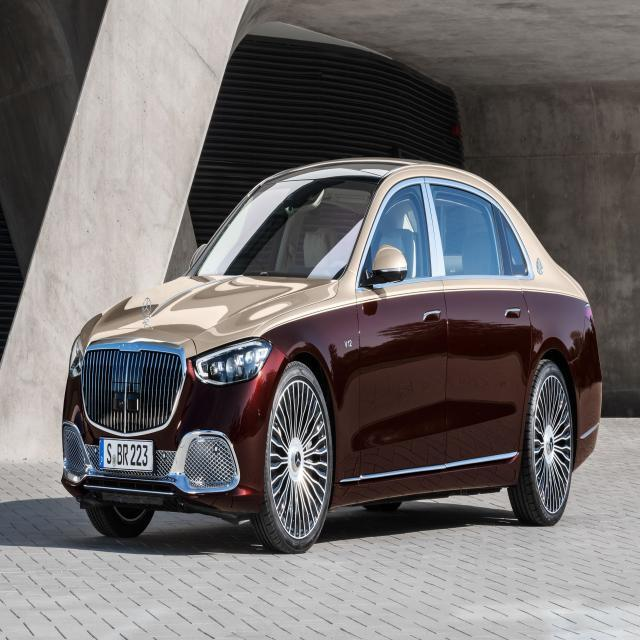pickup: (60, 155, 602, 554)
